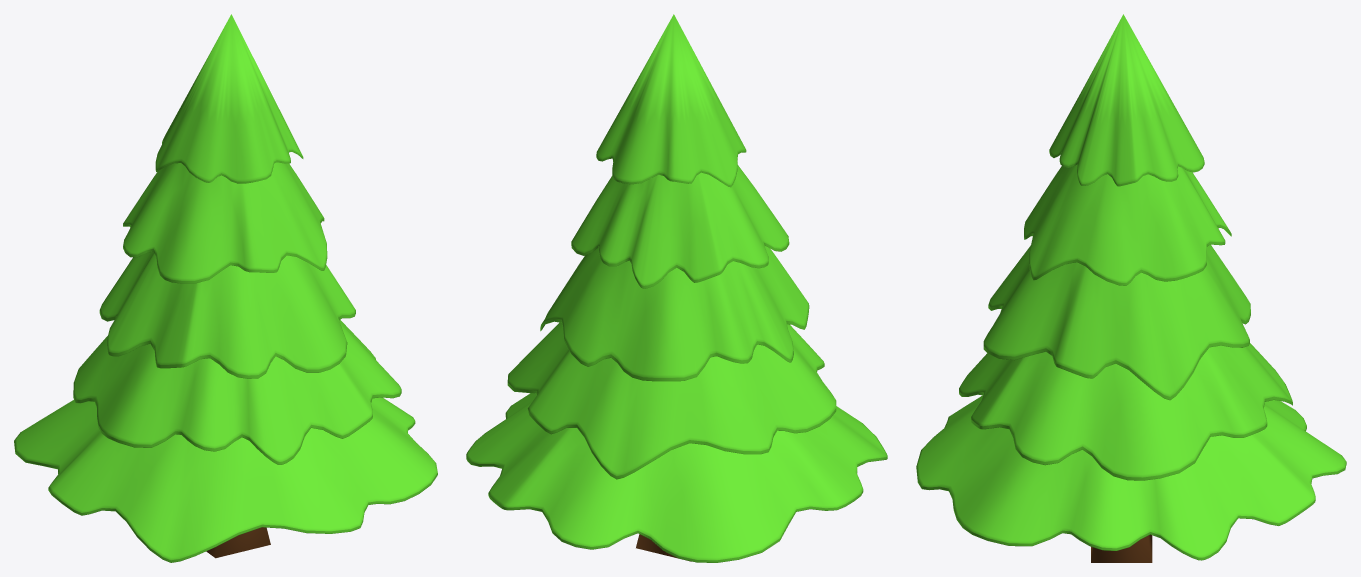
The model's file is pinetree_01.glb.
The picture shows the model from 3 angles, left to right: view 1: azimuth 30°, elevation 25°; view 2: azimuth 150°, elevation 25°; view 3: azimuth 270°, elevation 25°; orthographic projection. The views are drawn at different scales.
Parts seen in each view (by area): view 1: Circle, Circle.001, Circle.002, Circle.003, Circle.004, Circle.005; view 2: Circle, Circle.001, Circle.002, Circle.003, Circle.004; view 3: Circle, Circle.001, Circle.002, Circle.003, Circle.004, Circle.005.
Boxes of the visible parts, x1,y1,x2,y2 form: Circle: [14, 397, 437, 562]; Circle.001: [73, 320, 401, 464]; Circle.002: [99, 251, 355, 378]; Circle.003: [123, 162, 327, 283]; Circle.004: [155, 14, 303, 183]; Circle.005: [206, 527, 270, 558]; Circle: [466, 393, 887, 562]; Circle.001: [507, 322, 836, 479]; Circle.002: [540, 246, 809, 381]; Circle.003: [571, 165, 789, 288]; Circle.004: [596, 14, 746, 187]; Circle: [916, 395, 1346, 560]; Circle.001: [959, 343, 1292, 480]; Circle.002: [983, 244, 1250, 400]; Circle.003: [1024, 165, 1231, 285]; Circle.004: [1049, 14, 1204, 186]; Circle.005: [1091, 534, 1152, 562].
Size of the model in its own units: 1.53 by 2.22 by 1.61.
